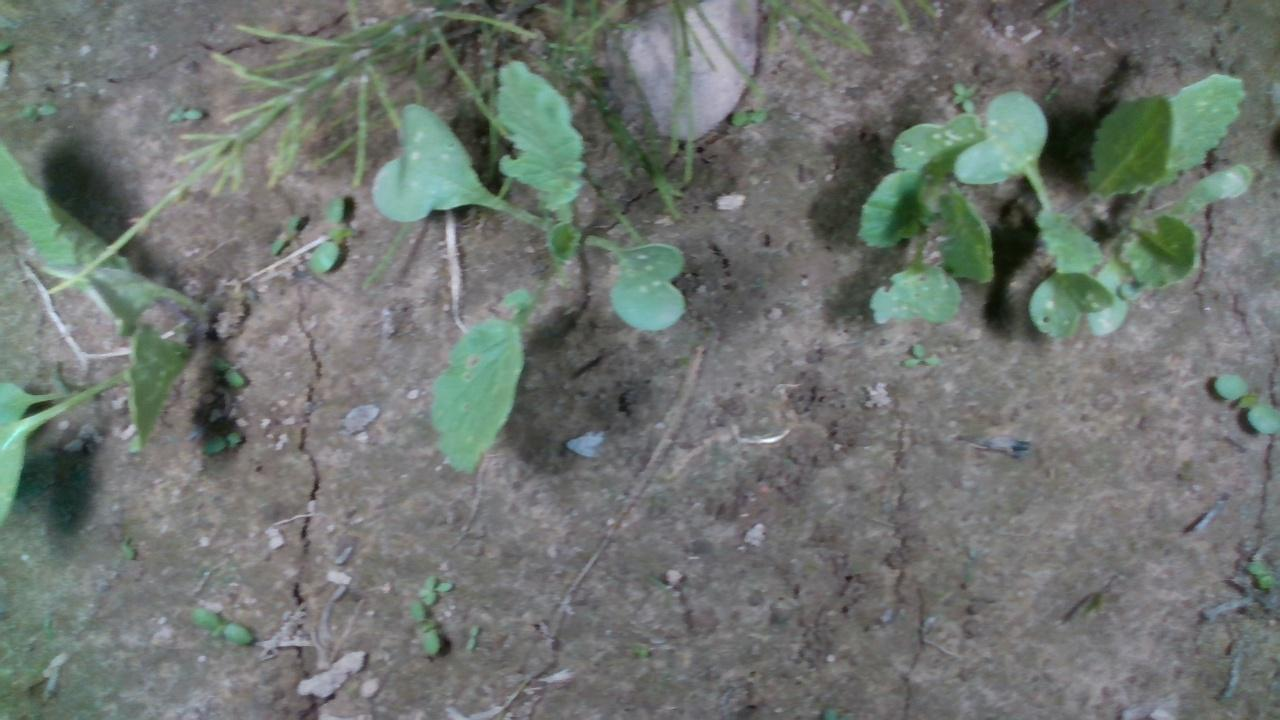weed: (306, 192, 355, 276), (186, 604, 253, 647), (265, 210, 304, 254), (201, 427, 243, 455), (897, 339, 939, 366), (463, 621, 480, 651)
